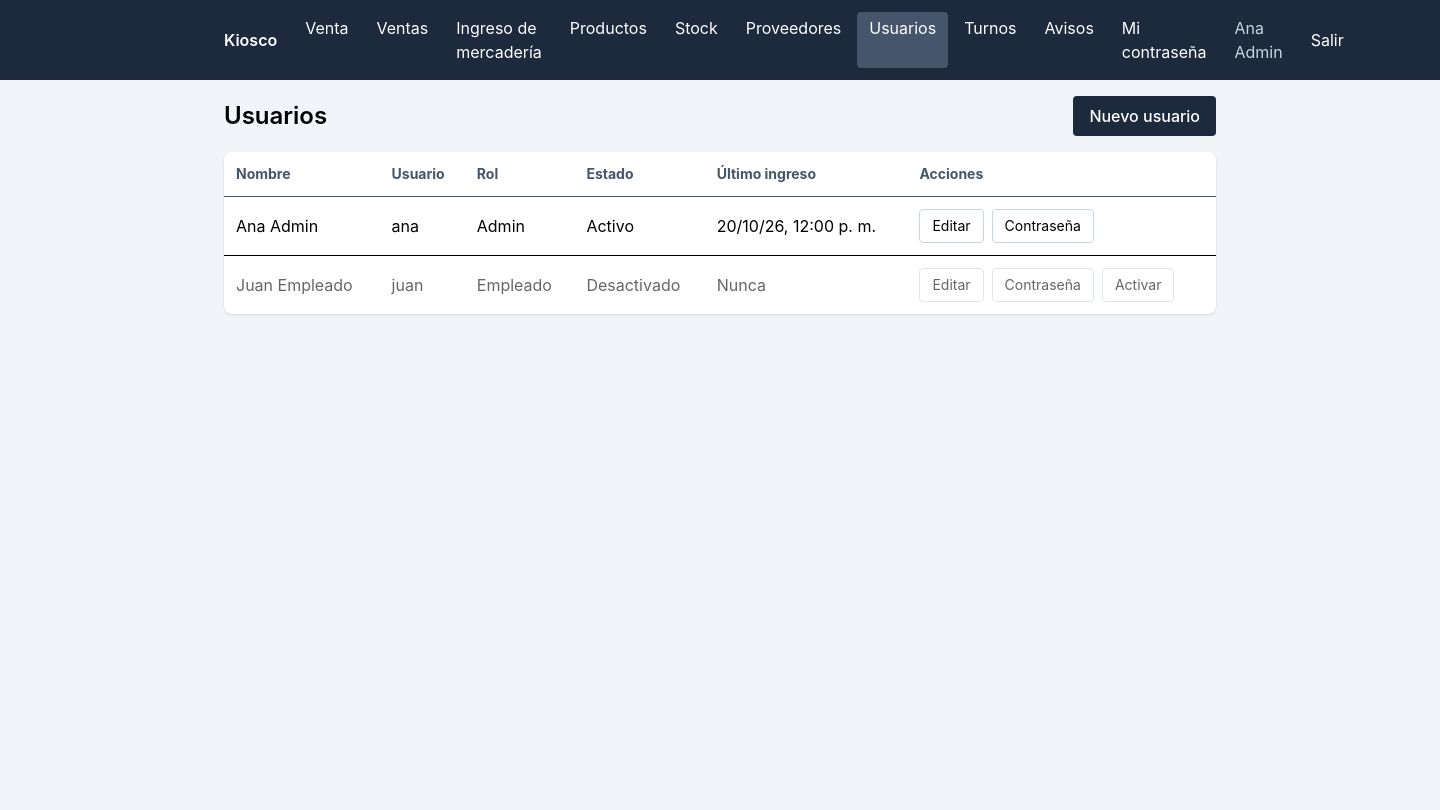
Test: pantalla de usuarios › crea un usuario y vuelve a pedir la lista
Click the button "Nuevo usuario": (1145,116) [1073,96,1216,136]
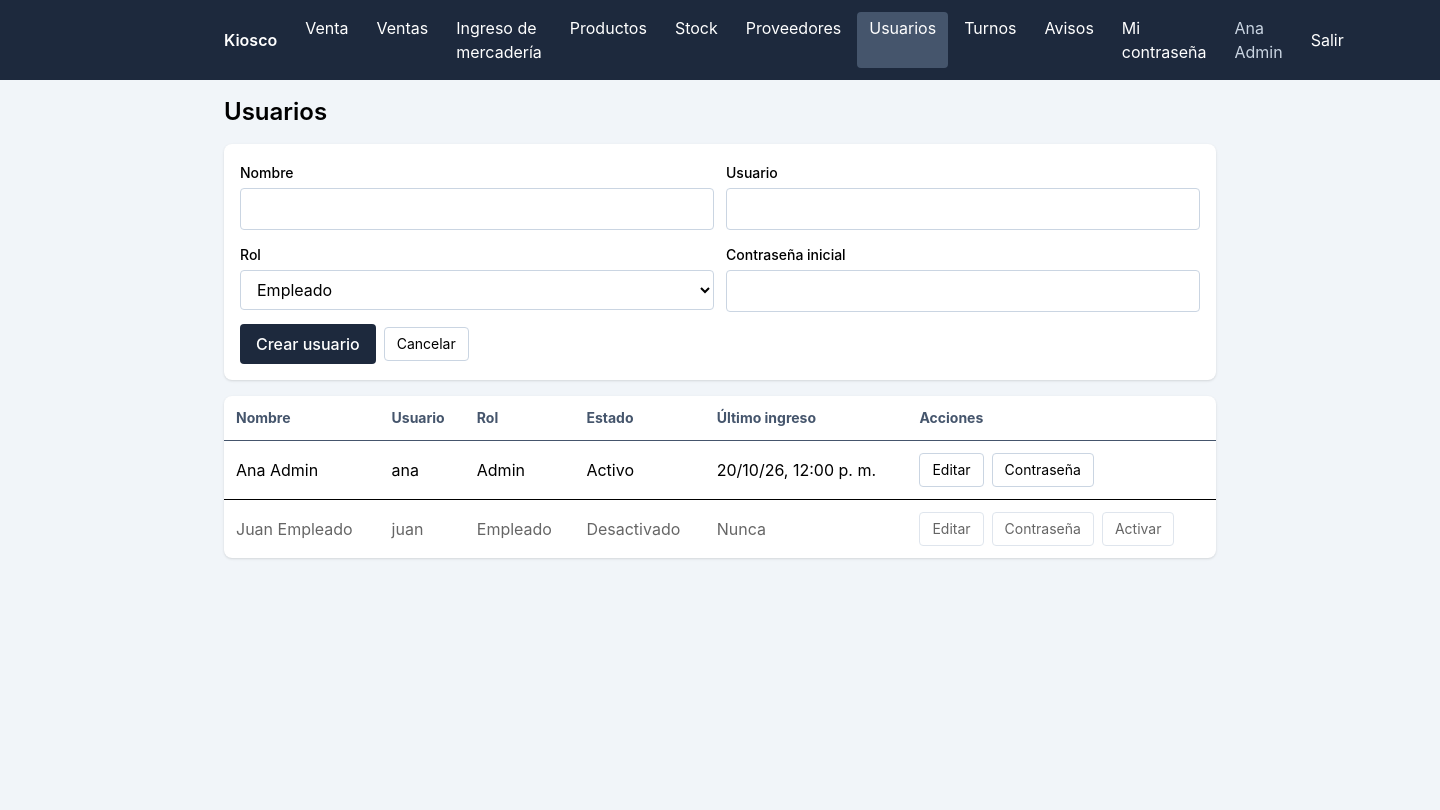
In the field labelled "Nombre": (477,209) [240,188,714,230], type "María"
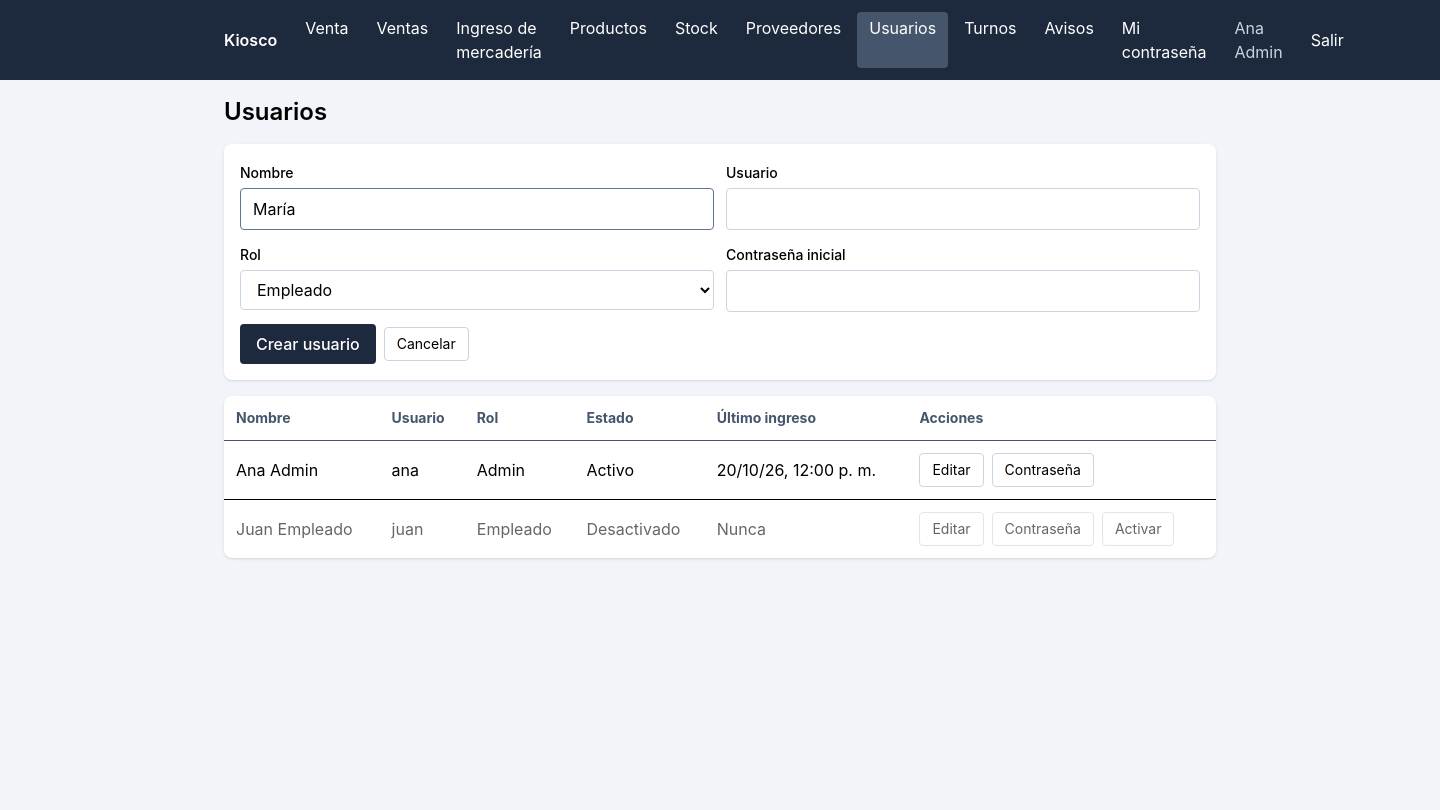
In the field labelled "Usuario": (963,209) [726,188,1200,230], type "Maria"
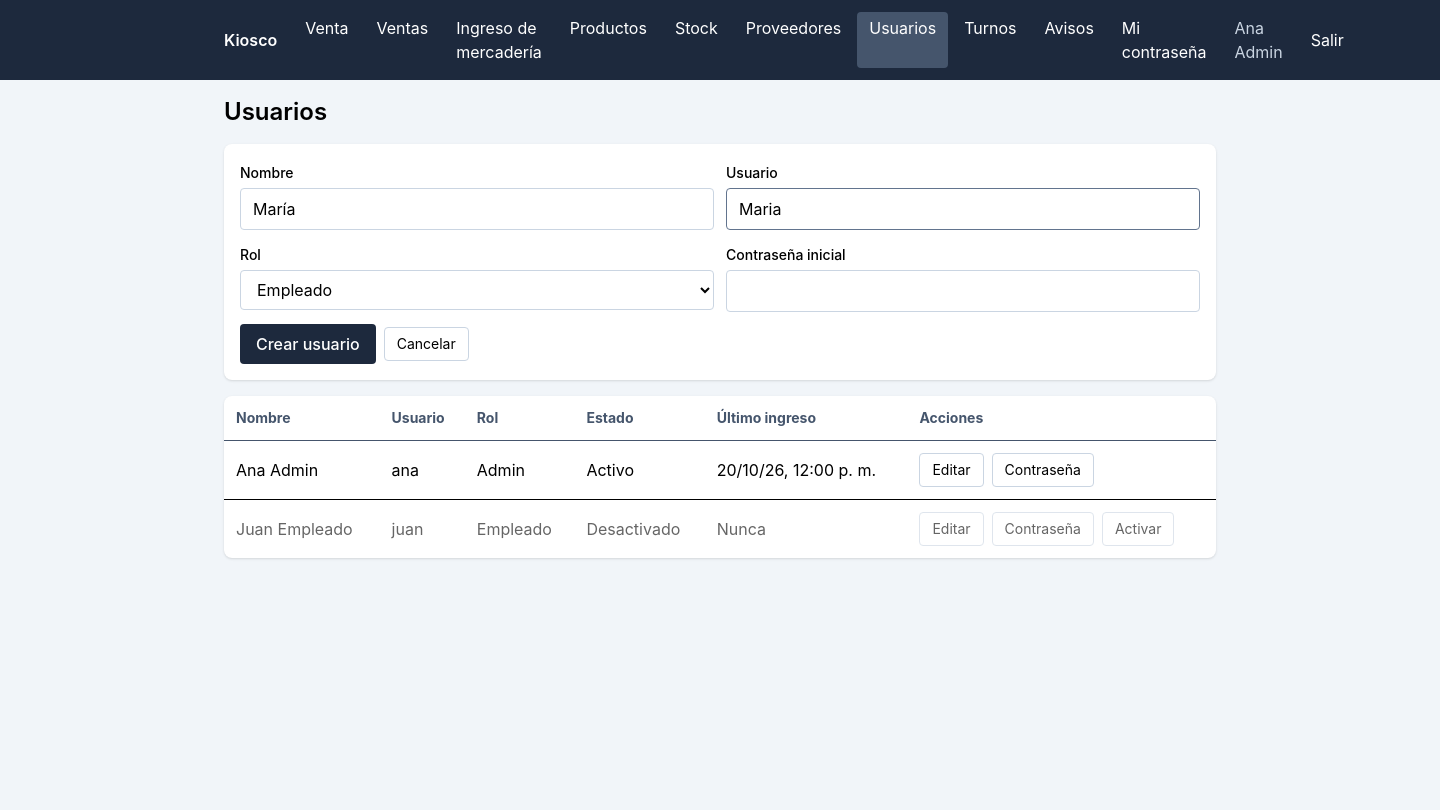
In the password field labelled "Contraseña inicial": (963,291) [726,270,1200,312], type "12345678"
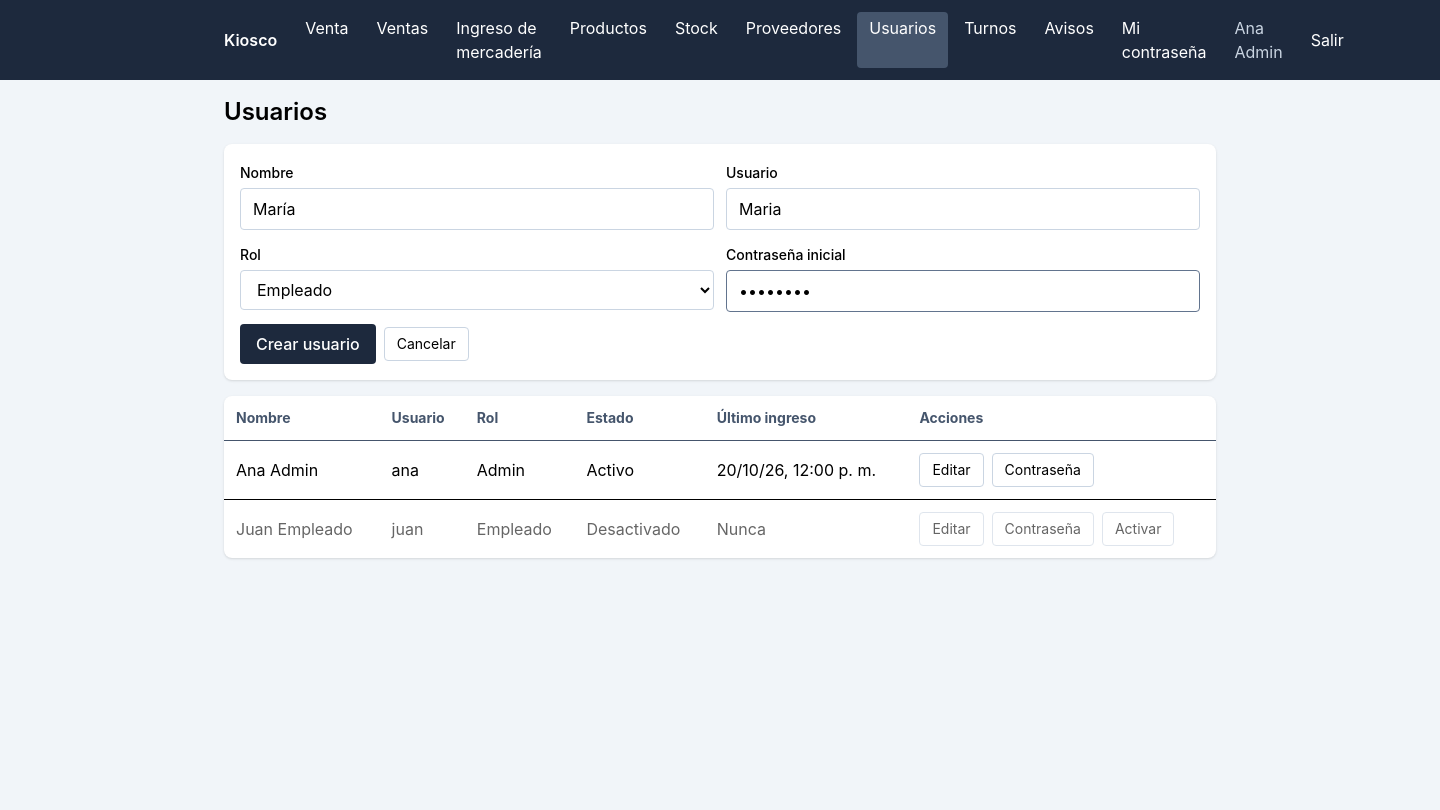
Click the button "Crear usuario": (308,344) [240,324,376,364]
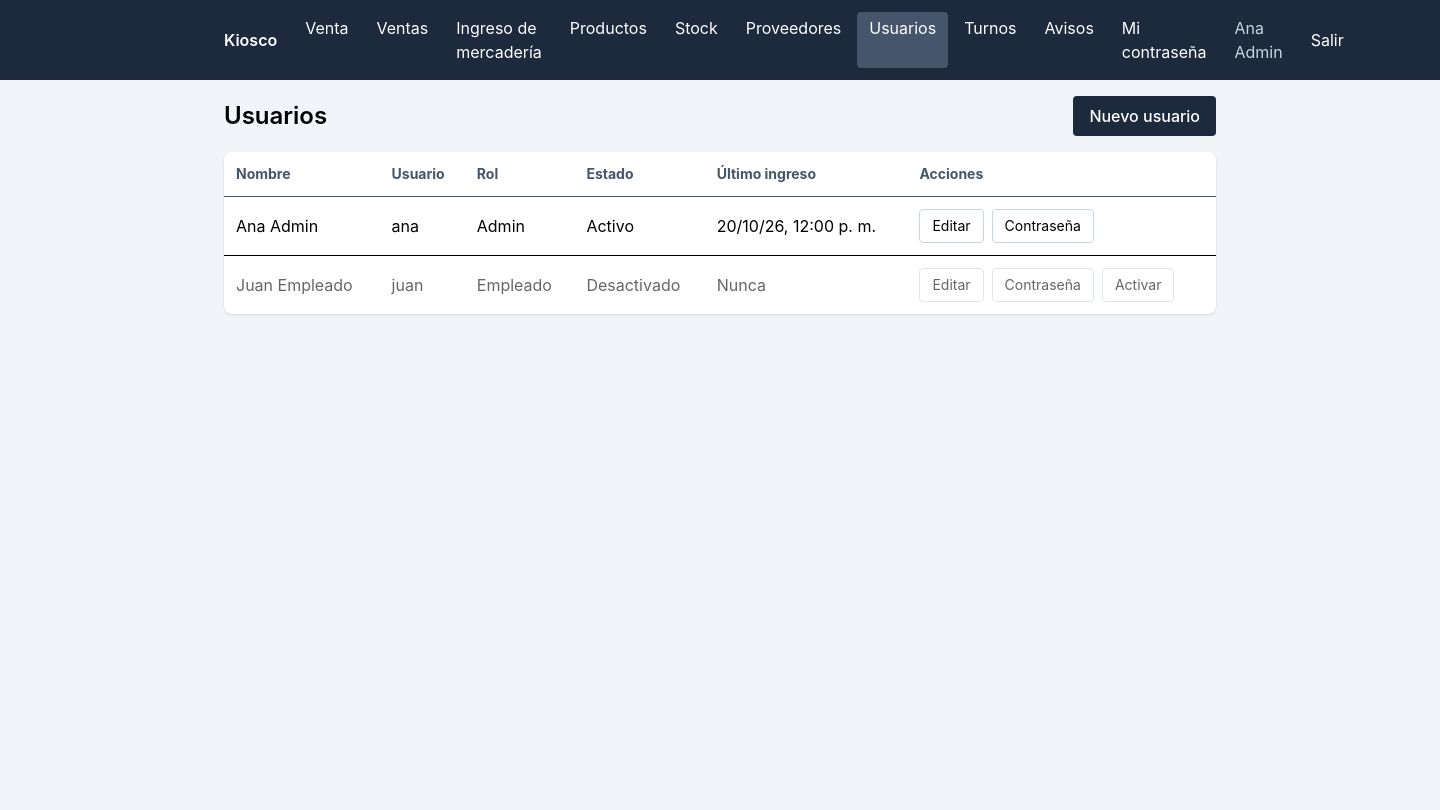
Expected: the button "Nuevo usuario" is shown, [1073,96,1216,136]
